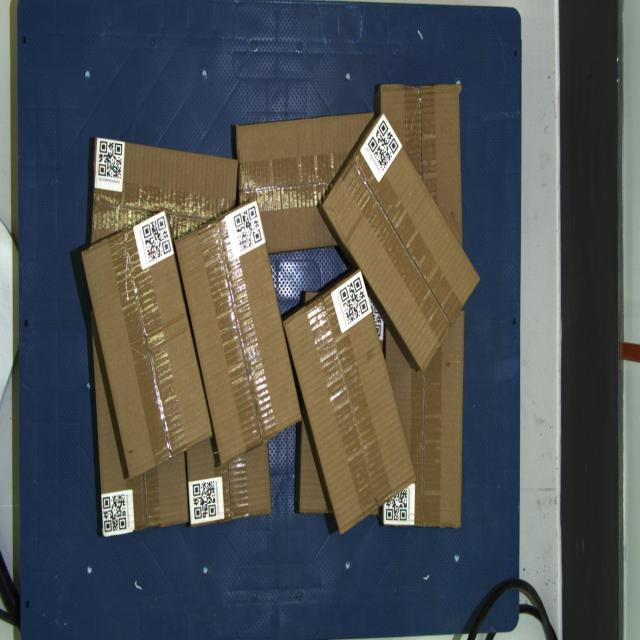box: (322, 113, 480, 371), (283, 269, 417, 535), (81, 209, 212, 479), (174, 198, 302, 466)
